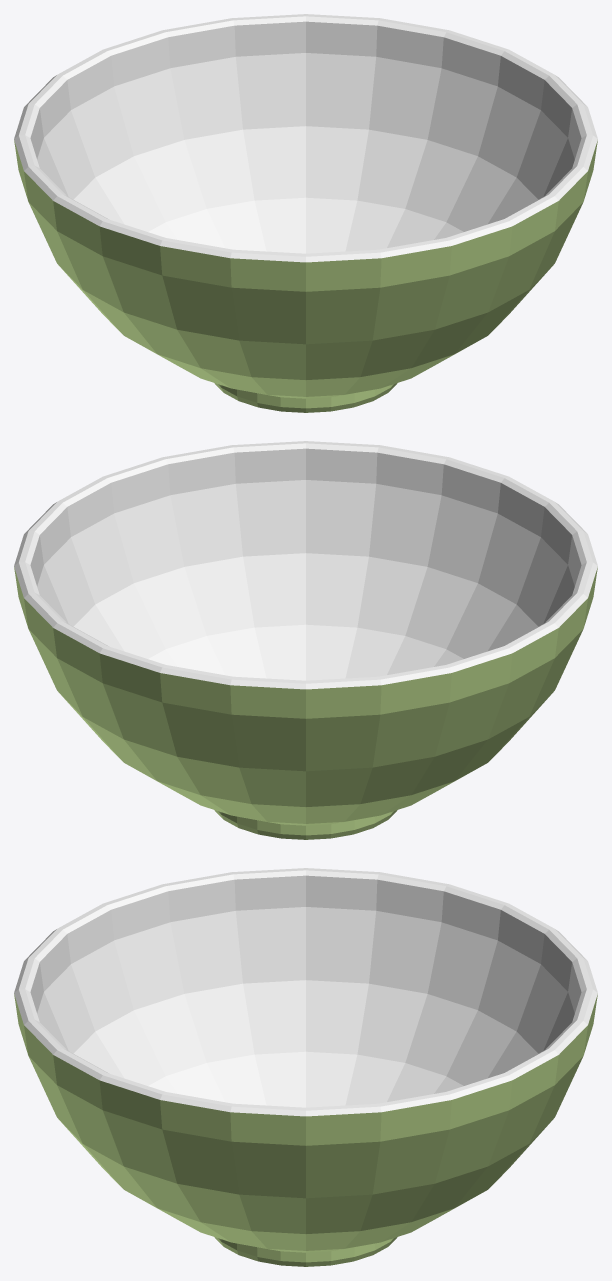
Rendered from Bowl_by_get3dmodels.glb.
The picture shows the model from 3 angles, top to bottom: view 1: azimuth 30°, elevation 25°; view 2: azimuth 150°, elevation 25°; view 3: azimuth 270°, elevation 25°; orthographic projection.
Parts seen in each view (by area): view 1: Bowl; view 2: Bowl; view 3: Bowl.
Part boxes in pixels (x1,y1,x2,y2): Bowl: [14, 14, 597, 412]; Bowl: [14, 441, 597, 839]; Bowl: [14, 868, 597, 1266].
Size of the model in its own units: 68.91 by 31.26 by 68.91.
Materials: 1 (1 with a texture image).
